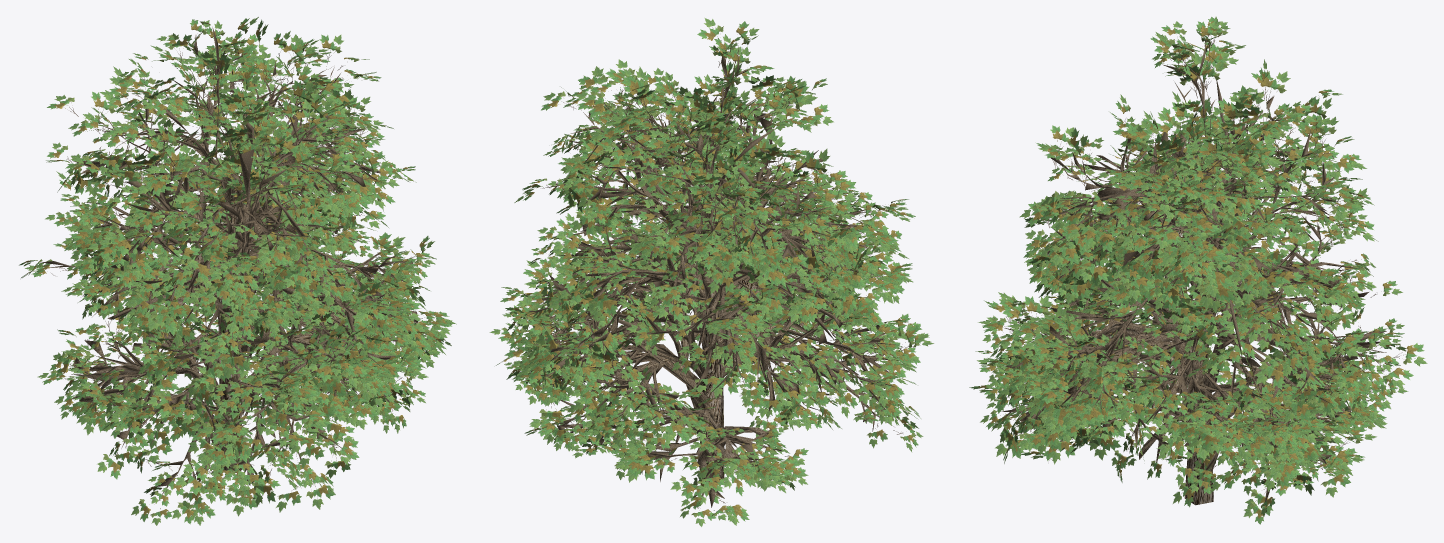
Rendered from ahorn_tree.glb.
The picture shows the model from 3 angles, left to right: view 1: azimuth 30°, elevation 25°; view 2: azimuth 150°, elevation 25°; view 3: azimuth 270°, elevation 25°; orthographic projection. The views are drawn at different scales.
Parts seen in each view (by area): view 1: Woodland ahorn_tree; view 2: Woodland ahorn_tree; view 3: Woodland ahorn_tree.
Part boxes in pixels (bbox=[...]): Woodland ahorn_tree: bbox=[19, 17, 456, 525]; Woodland ahorn_tree: bbox=[489, 18, 933, 526]; Woodland ahorn_tree: bbox=[969, 16, 1427, 524].
Bounding box in the file's own units: 9.44 × 10.82 × 9.84.
2 materials, 2 textured.
